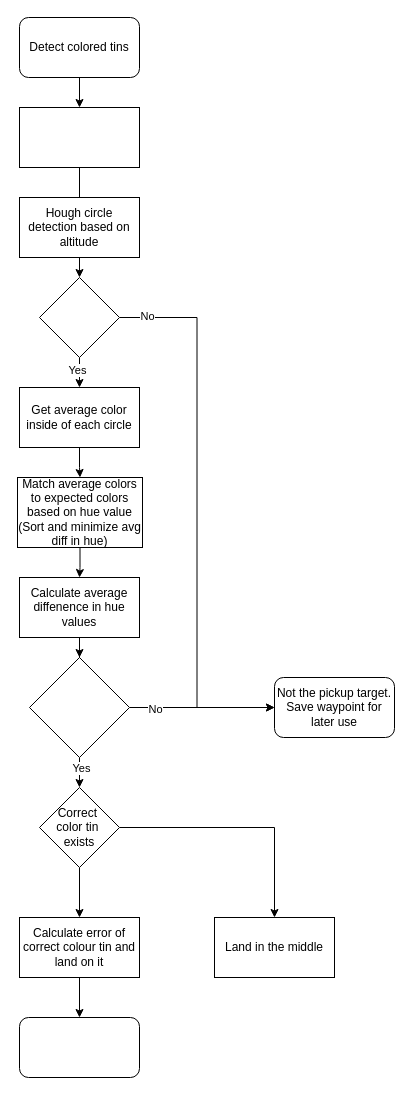
This 412x1095 diagram has some shape labels left out. Here are the shapes that lost their labels. From the top down, the centre of each, then its label:
At [79,137]: "Read, resize and blur".
At [79,317]: "At least one circle found".
At [79,707]: "Difference smaller than threshold".
At [79,1047]: "Done".
